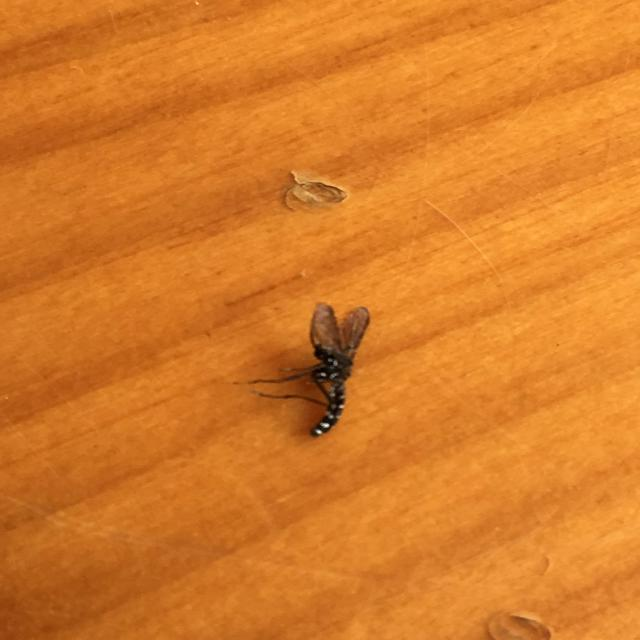albopictus: (224, 296, 373, 434)
